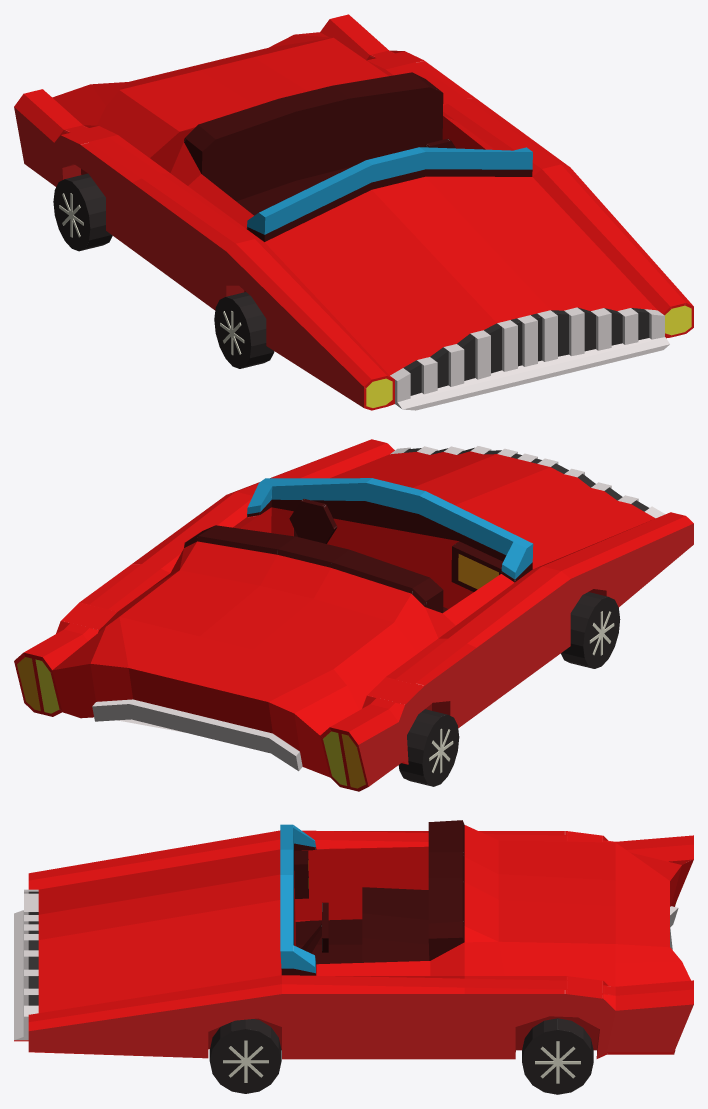
Rendered from SportsCarWithFixedUV.fbx.
3 views of the same model, one above another, from view 1: azimuth 30°, elevation 25°; view 2: azimuth 150°, elevation 25°; view 3: azimuth 270°, elevation 25° (orthographic). The views are drawn at different scales.
Visible parts, largest first — view 1: Car_Body, wheel_back_2, wheel_front_2; view 2: Car_Body, wheel_back_2, wheel_front_2; view 3: Car_Body, wheel_back_1, wheel_front_1.
Part boxes in pixels (x1=…): Car_Body: x1=14, y1=14, x2=693, y2=410; wheel_back_2: x1=53, y1=173, x2=112, y2=251; wheel_front_2: x1=214, y1=292, x2=274, y2=368; Car_Body: x1=14, y1=439, x2=693, y2=791; wheel_back_2: x1=398, y1=709, x2=459, y2=786; wheel_front_2: x1=561, y1=592, x2=620, y2=668; Car_Body: x1=14, y1=820, x2=693, y2=1059; wheel_back_1: x1=522, y1=1018, x2=593, y2=1094; wheel_front_1: x1=209, y1=1019, x2=281, y2=1093.
Bounding box in the file's own units: 133 × 51.52 × 218.
